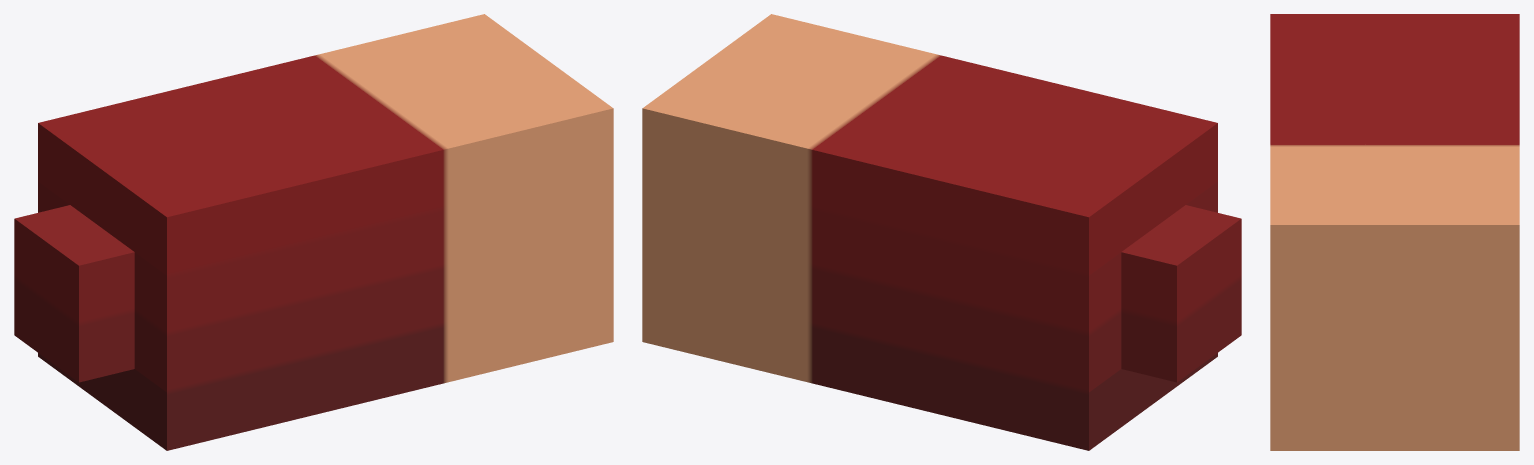
The model's file is Elbow066.fbx.
3 renders of one model, left to right at view 1: azimuth 30°, elevation 25°; view 2: azimuth 150°, elevation 25°; view 3: azimuth 270°, elevation 25°, orthographic. The views are drawn at different scales.
Parts seen in each view (by area): view 1: Elbow066; view 2: Elbow066; view 3: Elbow066.
Part boxes in pixels (bbox=[...]): Elbow066: bbox=[14, 14, 613, 450]; Elbow066: bbox=[642, 14, 1241, 450]; Elbow066: bbox=[1270, 14, 1519, 450].
Bounding box in the file's own units: 9 × 4 × 4.
